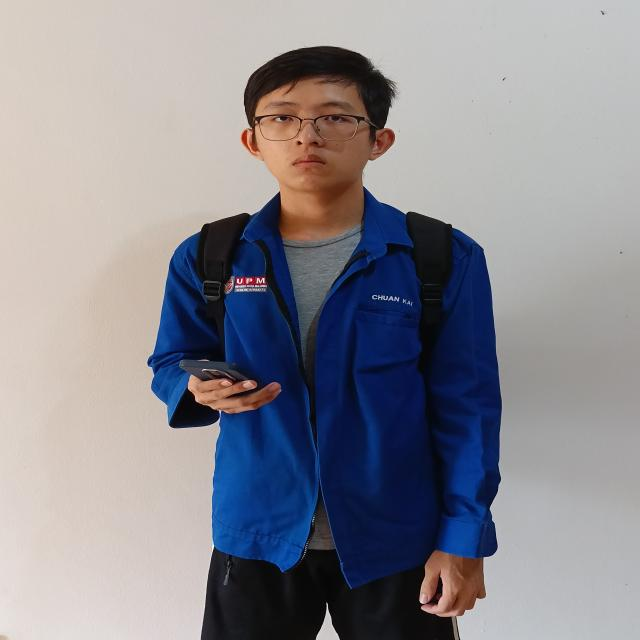person_with_labcoat: (149, 46, 501, 640)
